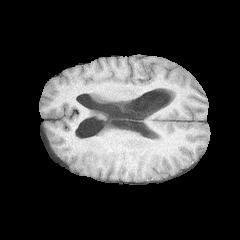glioma: (73, 110, 108, 152)
